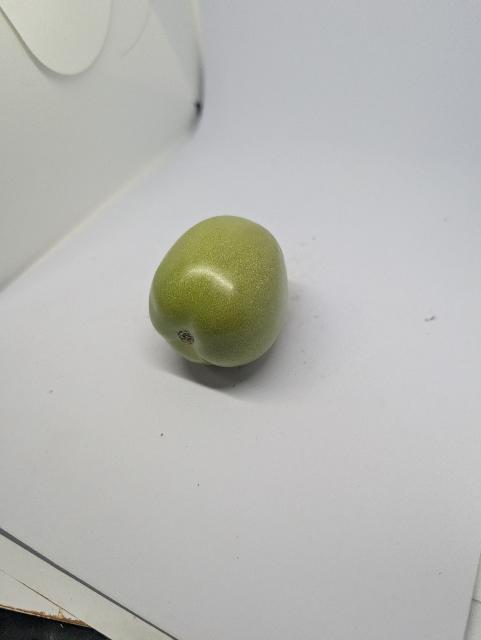green: (125, 192, 314, 392)
